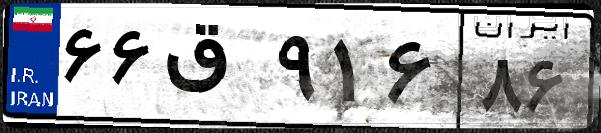1: (330, 28, 385, 110)
6: (385, 28, 445, 110), (57, 26, 110, 100), (525, 38, 570, 115), (110, 28, 158, 98)
8: (475, 38, 525, 113)
9: (270, 28, 330, 110)
ق: (158, 20, 270, 120)
